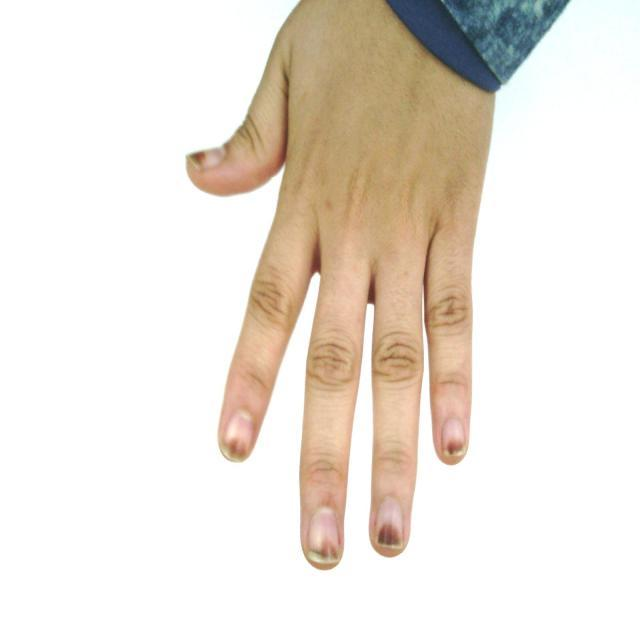Fingernail: (308, 509, 341, 563), (221, 409, 253, 463), (376, 496, 403, 548), (442, 417, 466, 457), (188, 147, 226, 172)
